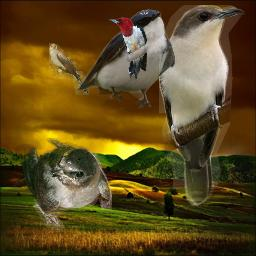Cuckoo: (159, 5, 245, 207), (49, 43, 89, 95)
Swallow: (76, 9, 176, 109), (9, 138, 112, 231)
Woodpecker: (108, 17, 147, 80)
